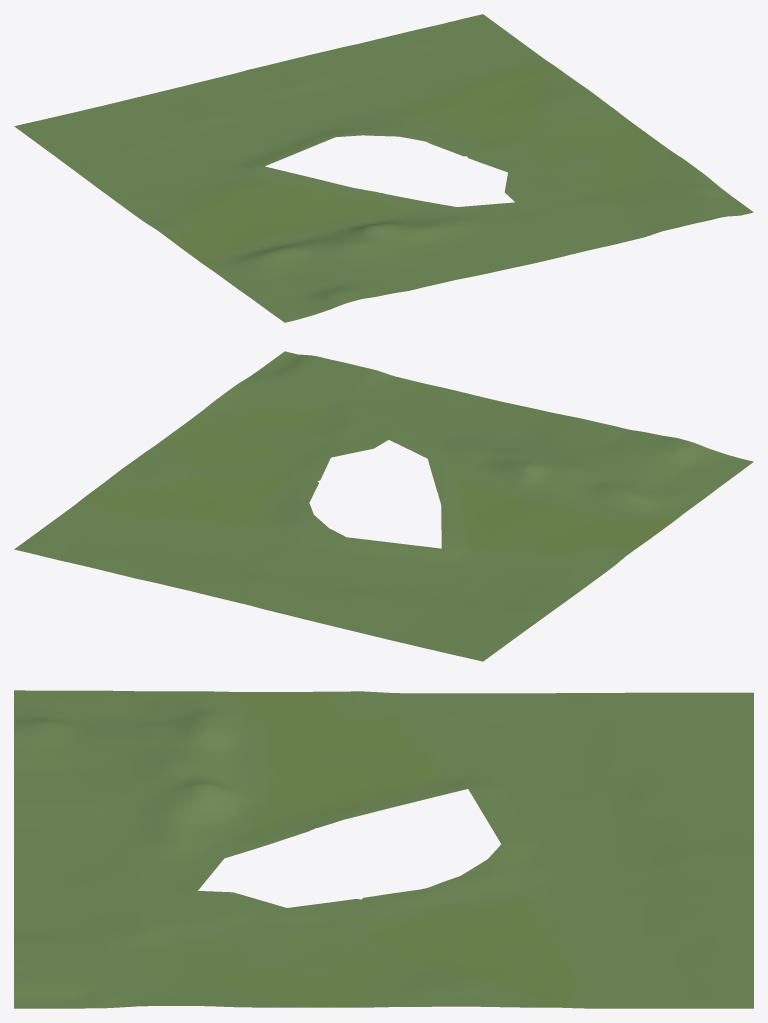
3 renders of one model, top to bottom at view 1: azimuth 30°, elevation 25°; view 2: azimuth 150°, elevation 25°; view 3: azimuth 270°, elevation 25°, orthographic. The views are drawn at different scales.
Parts seen in each view (by area): view 1: surface_context-terrain; view 2: surface_context-terrain; view 3: surface_context-terrain.
Boxes of the visible parts, x1,y1,x2,y2 form: surface_context-terrain: (14,14,753,322); surface_context-terrain: (14,351,753,661); surface_context-terrain: (14,690,753,1008).
Bounding box in the file's own units: 720 × 16.96 × 720.
Materials: 1 (1 with a texture image).
